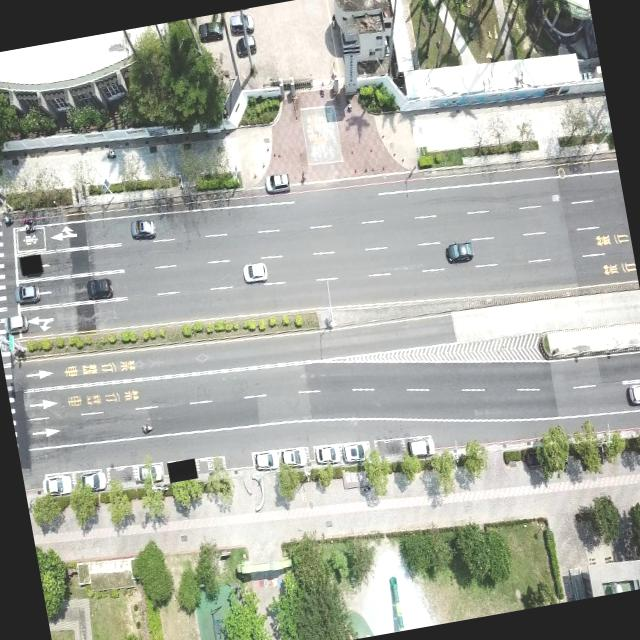bike: (138, 421, 156, 435), (22, 218, 35, 234), (2, 211, 14, 226), (105, 148, 116, 158)
car: (40, 469, 77, 498), (340, 438, 372, 465), (312, 440, 341, 468), (404, 434, 436, 459), (444, 239, 474, 265), (279, 444, 309, 470), (85, 275, 114, 301), (12, 280, 41, 306), (262, 170, 290, 196), (128, 216, 156, 242), (134, 460, 164, 484), (79, 469, 107, 494), (228, 10, 255, 35), (240, 260, 268, 284), (196, 19, 223, 43), (2, 312, 29, 336), (252, 449, 280, 470), (233, 34, 257, 58), (624, 378, 640, 411)
